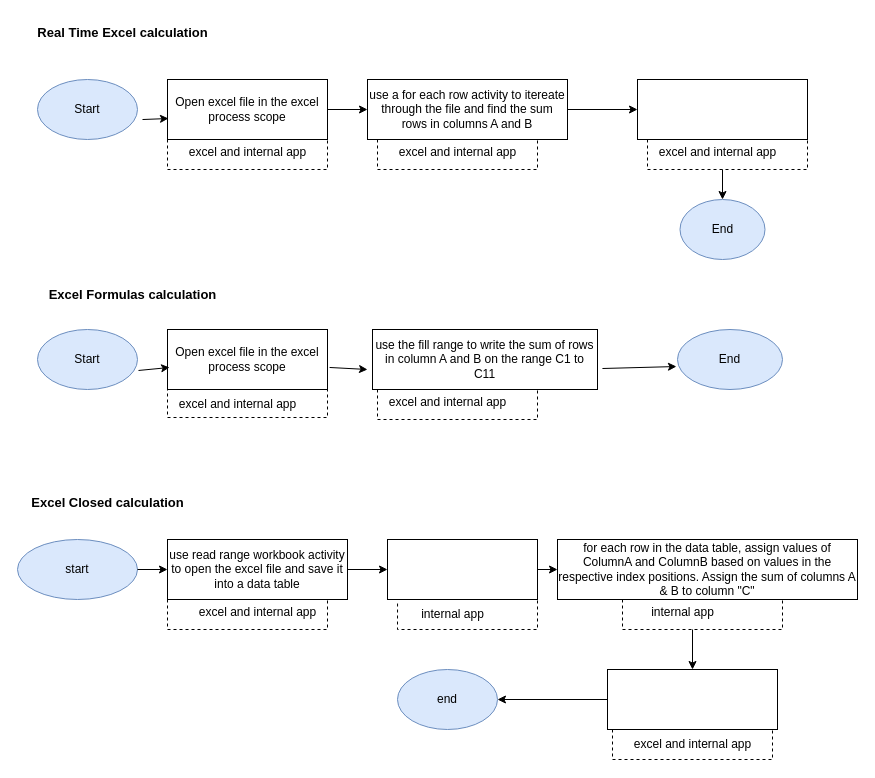
The diagram is 875 pixels wide and 778 high, and some of its shapes have lost their labels. Each missing label, with the centre of its shape:
add data column "C" into the data table: (x=462, y=569)
Write the data table into an excel file: (x=692, y=699)
Write the sums of those rows in their respective positions on column C: (x=722, y=109)
